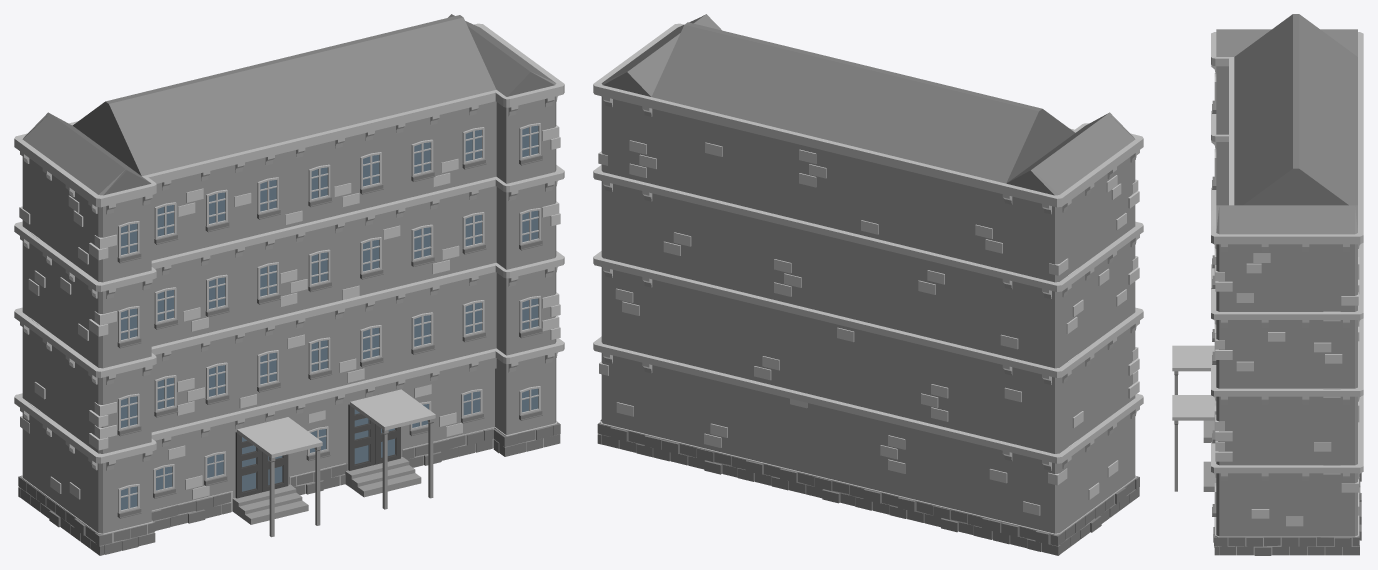
The model's file is qtb_4story_wide_2doors_roof.fbx.
The picture shows the model from 3 angles, left to right: view 1: azimuth 30°, elevation 25°; view 2: azimuth 150°, elevation 25°; view 3: azimuth 270°, elevation 25°; orthographic projection. The views are drawn at different scales.
Visible parts, largest first — view 1: qtb_4story_wide_2doors_roof_LOD0; view 2: qtb_4story_wide_2doors_roof_LOD0; view 3: qtb_4story_wide_2doors_roof_LOD0.
Part boxes in pixels (bbox=[...]): qtb_4story_wide_2doors_roof_LOD0: bbox=[14, 14, 564, 555]; qtb_4story_wide_2doors_roof_LOD0: bbox=[593, 14, 1143, 555]; qtb_4story_wide_2doors_roof_LOD0: bbox=[1172, 14, 1363, 555].
Size of what is drawn, in the model's own units: 18.44 by 15.35 by 7.28.
Materials: 1 (1 with a texture image).
